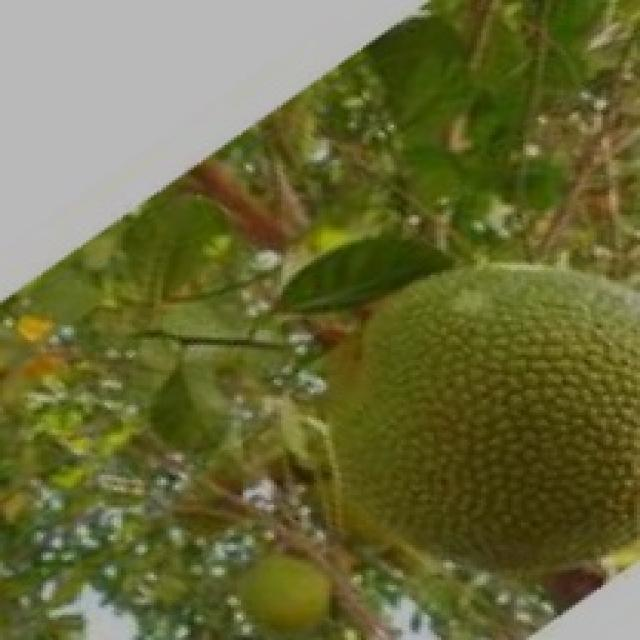Fruit: (298, 238, 640, 618)
